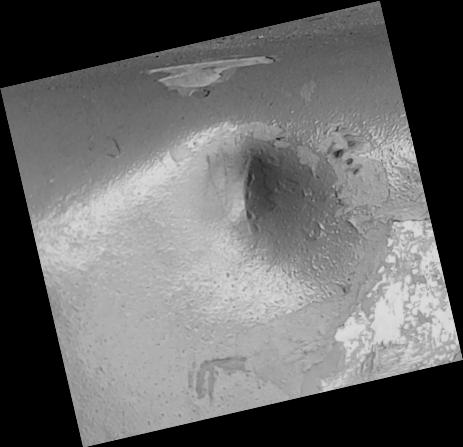dent: (1, 1, 462, 447)
